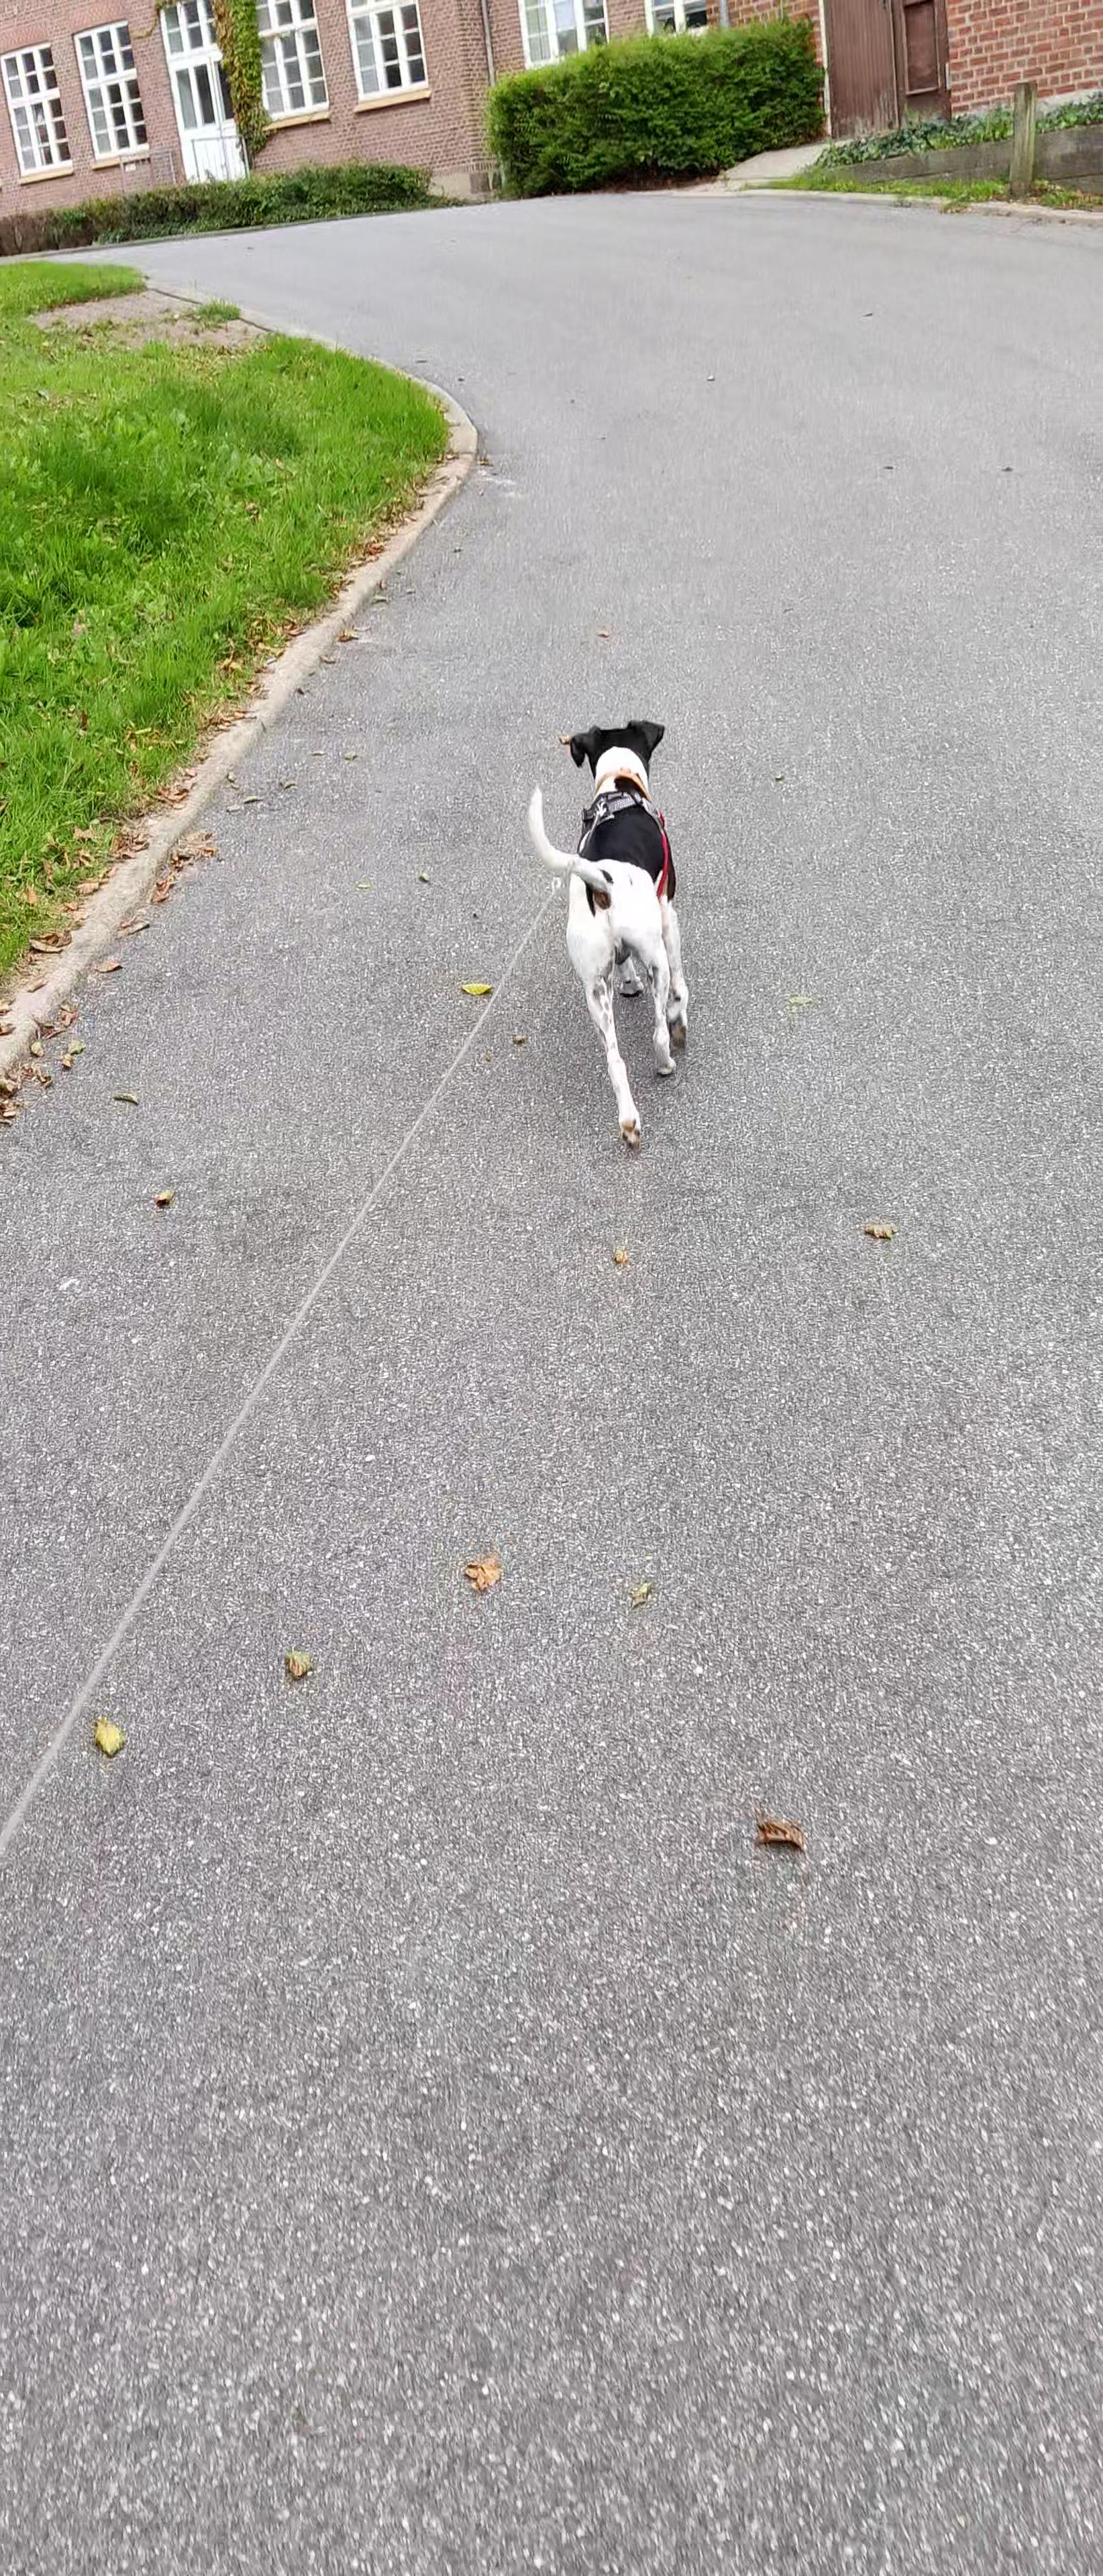Dog: (528, 715, 692, 1160)
